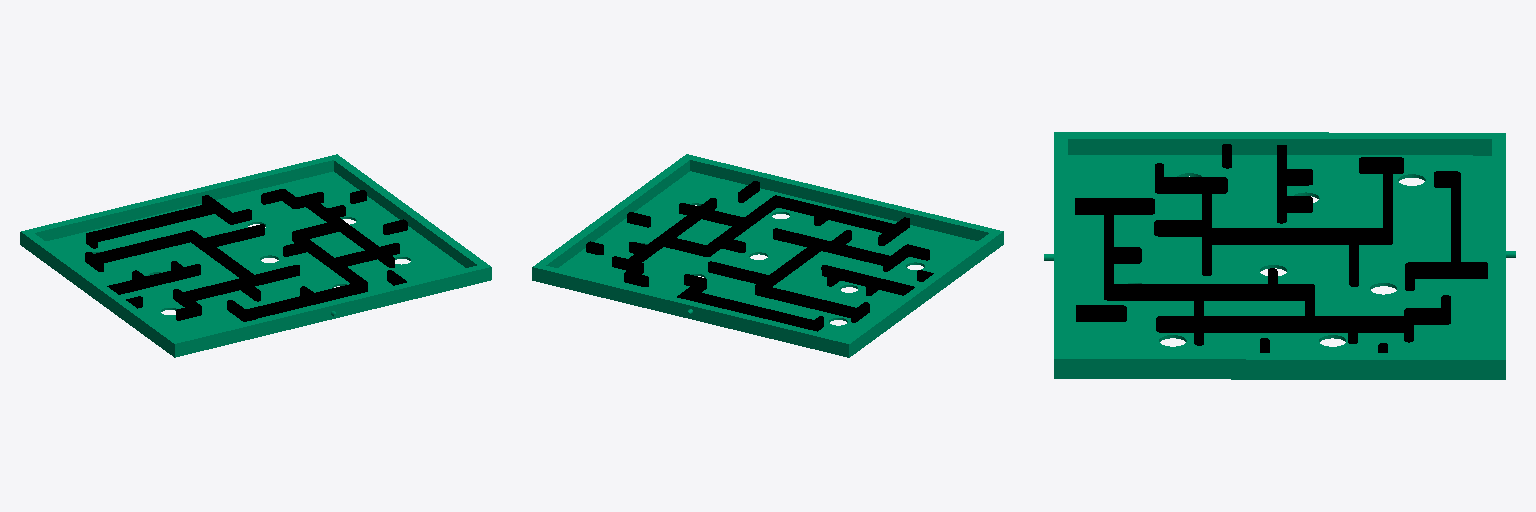
URDF robot description (Labyrinth):
<?xml version="1.0" encoding="UTF-8"?>
<robot name="Labyrinth">
  <link name="Support">
    <visual>
      <origin xyz="0. 0. 0." rpy="1.57 0. 0. "/>
      <geometry>
        <mesh filename="meshes/Support.STL" scale="1.0 1.0 1.0"/>
      </geometry>
      <material name="Red">
          <color rgba="1.0 0.0 0.0 1.0"/> <!-- RGB + Alpha (transparency) -->
      </material>
    </visual>
  
  </link>  

  <link name="OuterDOF">
    <visual>
      <origin xyz="0.0 0.0 -0.1" rpy="1.57 0. 0. "/>
      <geometry>
        <mesh filename="meshes/OuterDOF.STL" scale="1.0 1.0 1.0"/>
      </geometry>
    </visual>
  </link> 

  <link name="InnerDOF">
    <visual>
      <origin xyz="0.0 0.0 -0.1" rpy="1.57 0. 0. "/>
      <geometry>
        <mesh filename="meshes/InnerDOF.STL" scale="1.0 1.0 1.0"/>
      </geometry>
    </visual>  
  </link>

  <link name="InnerDOFCollisions">
   <collision>
      <origin xyz="0.0 0.0 -0.005" rpy="1.57 0. 0. "/>
      <geometry>
        <mesh filename="meshes/InnerDOF_base-1.STL" scale="1.0 1.0 1.0"/>
      </geometry>
    </collision>

    <collision>
      <origin xyz="0.0 0.0 -0.005" rpy="1.57 0. 0. "/>
      <geometry>
        <mesh filename="meshes/InnerDOF_long_wall-1.STL" scale="1.0 1.0 1.0"/>
      </geometry>
    </collision>
    
    <collision>
      <origin xyz="0.0 0.0 -0.005" rpy="1.57 0. 0. "/>
      <geometry>
        <mesh filename="meshes/InnerDOF_long_wall-2.STL" scale="1.0 1.0 1.0"/>
      </geometry>
    </collision>

    <collision>
      <origin xyz="0.0 0.0 -0.005" rpy="1.57 0. 0. "/>
      <geometry>
        <mesh filename="meshes/InnerDOF_short_wall-1.STL" scale="1.0 1.0 1.0"/>
      </geometry>
    </collision>

    <collision>
      <origin xyz="0.0 0.0 -0.005" rpy="1.57 0. 0. "/>
      <geometry>
        <mesh filename="meshes/InnerDOF_short_wall-2.STL" scale="1.0 1.0 1.0"/>
      </geometry>
    </collision> 
  </link>

  <link name="InnerDOFWalls">
    <visual>
      <origin xyz="0.0 0.0 -0.1" rpy="1.57 0. 0. "/>
      <geometry>
        <mesh filename="meshes/InnerDOFWalls.STL" scale="1.0 1.0 1.0"/>
      </geometry>
      <material name="Black">
          <color rgba="0.0 0.0 0.0 1.0"/> <!-- RGB + Alpha (transparency) -->
      </material>
    </visual>
  </link> 

  <joint name="InnerDOF_RevoluteJoint" type="continuous">
    <origin xyz="0.0 0.0 0.0" rpy="0.0 0. 0."/>
    <parent link="OuterDOF"/>
    <child link="InnerDOF"/>
    <axis xyz="0. 1. 0."/>
    <limit lower="-0.26179" upper="0.26179" effort="100.0" velocity="100.0"/>
  </joint>

  <joint name="OuterDOF_RevoluteJoint" type="continuous">
    <origin xyz="0.0 0.0 0.1" rpy="0. 0. 0."/>
    <parent link="Support"/>
    <child link="OuterDOF"/>
    <axis xyz="1. 0. 0."/>
    <limit lower="-0.26179" upper="0.26179" effort="100.0" velocity="100.0"/>
  </joint>

  <joint name="FixedMazeWallJoint" type="fixed">
    <origin xyz="0.0 0.0 0.0" rpy="0. 0. 0."/>
    <parent link="InnerDOF"/>
    <child link="InnerDOFWalls"/>
  </joint>
  <joint name="FixedMazeCollisionsJoint" type="fixed">
    <origin xyz="0.0 0.0 0.0" rpy="0. 0. 0."/>
    <parent link="InnerDOF"/>
    <child link="InnerDOFCollisions"/>
  </joint>
  <!-- <joint name="FixedShortWallJoint-1" type="fixed">
    <origin xyz="0.0 0.0 0.0" rpy="0. 0. 0."/>
    <parent link="InnerDOF"/>
    <child link="InnerDOF_short_wall-1"/>
  </joint>
  <joint name="FixedShortWallJoint-2" type="fixed">
    <origin xyz="0.0 0.0 0.0" rpy="0. 0. 0."/>
    <parent link="InnerDOF"/>
    <child link="InnerDOF_short_wall-2"/>
  </joint>
  <joint name="FixedLongWallJoint-1" type="fixed">
    <origin xyz="0.0 0.0 0.0" rpy="0. 0. 0."/>
    <parent link="InnerDOF"/>
    <child link="InnerDOF_long_wall-1"/>
  </joint>
  <joint name="FixedLongWallJoint-2" type="fixed">
    <origin xyz="0.0 0.0 0.0" rpy="0. 0. 0."/>
    <parent link="InnerDOF"/>
    <child link="InnerDOF_long_wall-2"/>
  </joint>
  <joint name="FixedBasedJoint-1" type="fixed">
    <origin xyz="0.0 0.0 0.0" rpy="0. 0. 0."/>
    <parent link="InnerDOF"/>
    <child link="InnerDOF_base-1"/>
  </joint> -->
</robot>

--- Facts derived from the render (not from the file) ---
Views: 3 orthographic renders of the robot side by side, from view 1: azimuth 30°, elevation 25°; view 2: azimuth 150°, elevation 25°; view 3: azimuth 270°, elevation 25°.
Robot: Labyrinth — 5 links, 4 joints (2 continuous, 2 fixed); root link Support; default pose: all joints at 0.
Visible links, largest first — view 1: InnerDOF, InnerDOFWalls; view 2: InnerDOF, InnerDOFWalls; view 3: InnerDOF, InnerDOFWalls.
Boxes of the visible links, x1,y1,x2,y2 form: InnerDOF: [20, 154, 491, 357]; InnerDOFWalls: [85, 189, 407, 321]; InnerDOF: [532, 154, 1003, 357]; InnerDOFWalls: [586, 181, 933, 331]; InnerDOF: [1044, 132, 1515, 379]; InnerDOFWalls: [1075, 144, 1487, 352].
Bounding box of the posed robot: 0.292 × 0.256 × 0.0122 m (x, y, z).
Meshes: 4 distinct files referenced, 2 mesh visuals loaded (2 binary STL); not drawn: 2 (reference not matched to a file when rendering).
